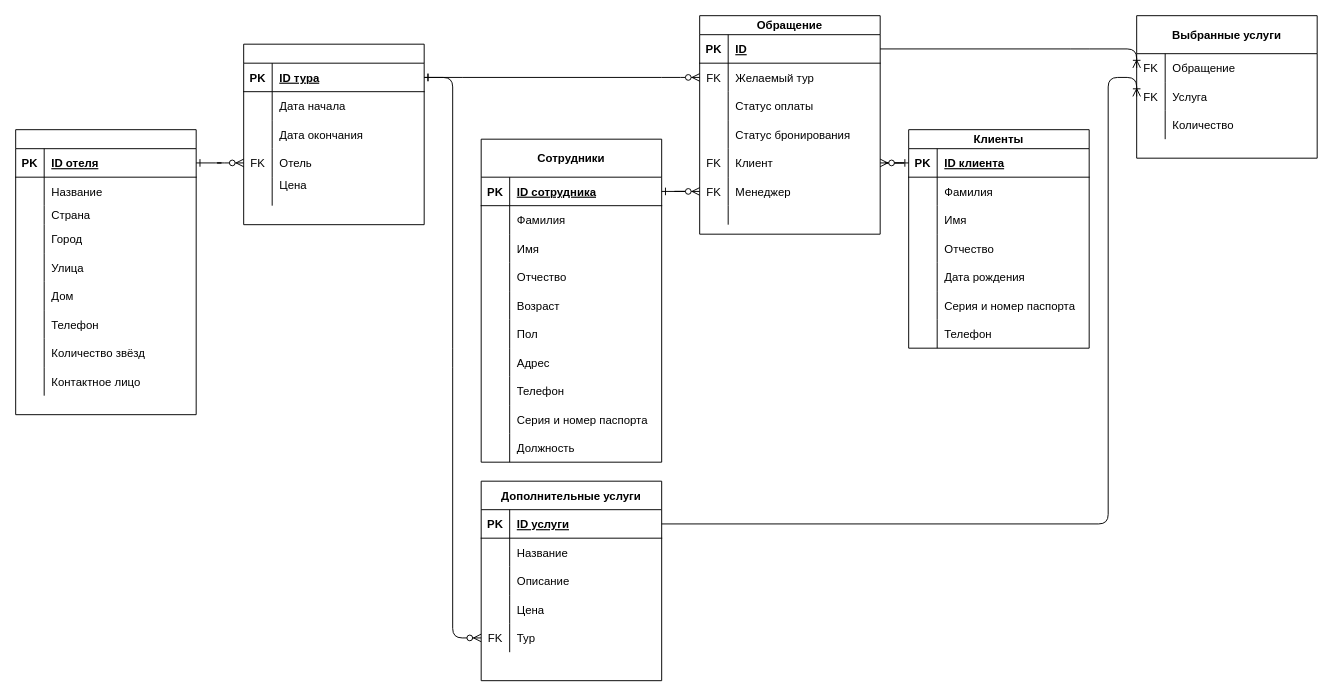
Image size: 1333x696. Some labels were removed from this diagram. Each missing label, with the box of its shape:
Отели: (15, 129, 196, 415)
Туры: (243, 43, 424, 225)
